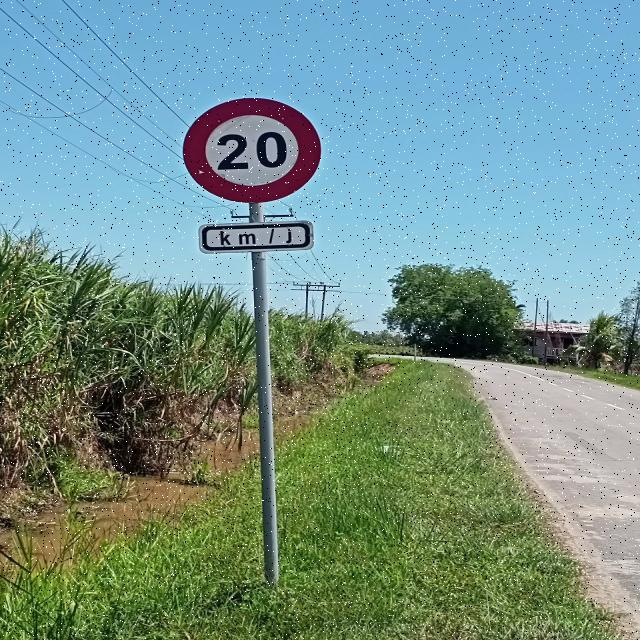speedlimit_20: (174, 102, 320, 202)
